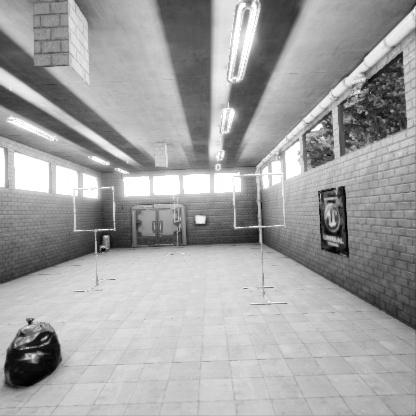gate: (234, 189, 290, 245), (77, 186, 120, 230), (173, 194, 178, 221)
